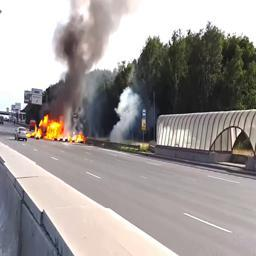fire: (28, 115, 85, 143)
